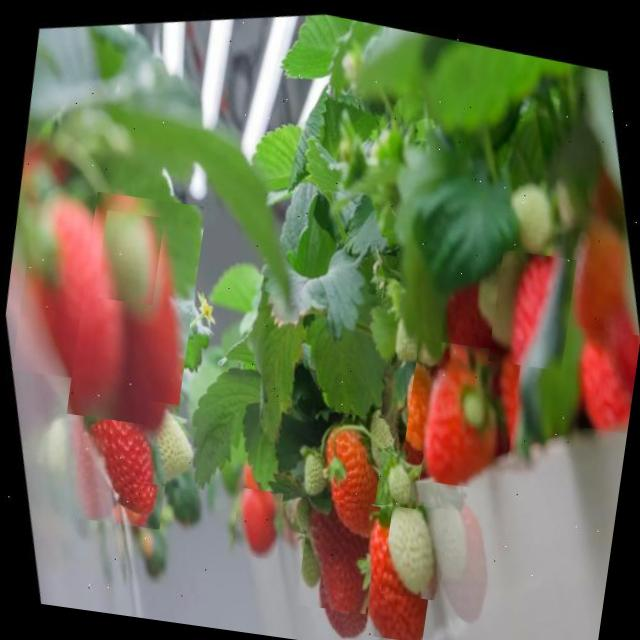ripe: (66, 192, 206, 429), (12, 188, 150, 386), (400, 339, 522, 492), (70, 390, 178, 530), (336, 501, 440, 640), (304, 410, 399, 535), (488, 250, 577, 372), (296, 498, 381, 614), (560, 326, 640, 434), (302, 556, 374, 640), (230, 487, 284, 560)
unripe: (380, 502, 451, 602), (94, 211, 164, 306), (138, 401, 208, 491), (289, 439, 339, 500), (375, 448, 423, 509)
